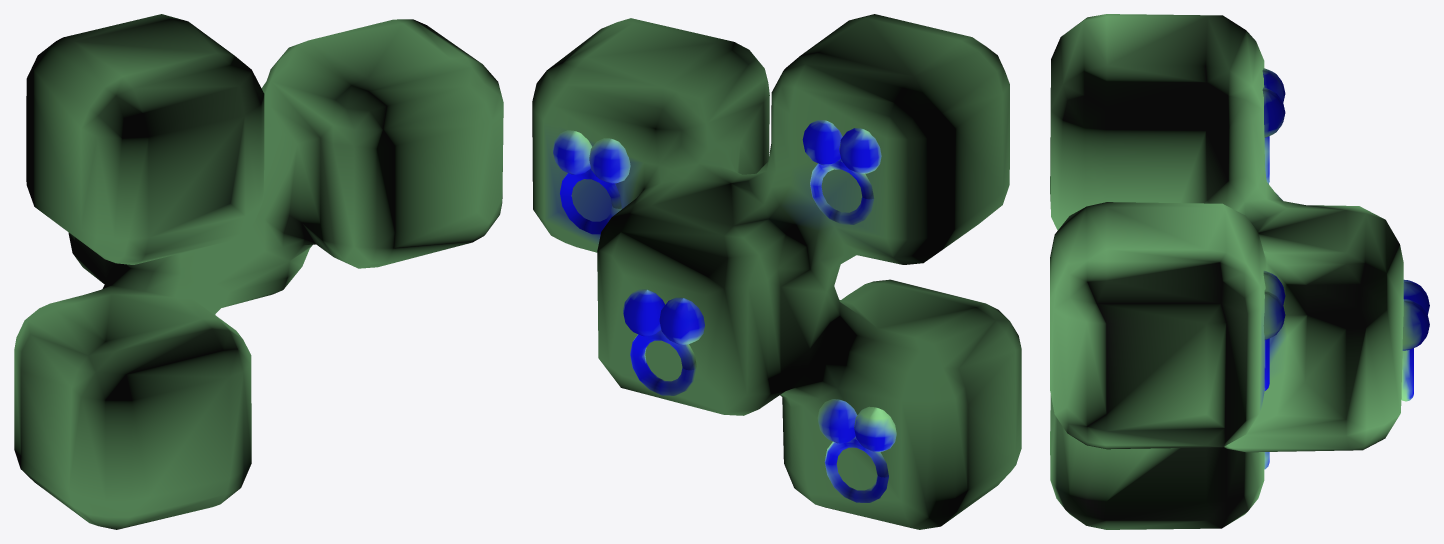
File: agon.glb
3 renders of one model, left to right at view 1: azimuth 30°, elevation 25°; view 2: azimuth 150°, elevation 25°; view 3: azimuth 270°, elevation 25°, orthographic. The views are drawn at different scales.
Visible parts, largest first — view 1: Agon; view 2: Agon; view 3: Agon.
Part boxes in pixels (<box>): Agon: <box>14,14,503,529</box>; Agon: <box>532,14,1021,529</box>; Agon: <box>1050,14,1429,529</box>.
Size of the model in its own units: 1.35 by 1.34 by 0.9833.
